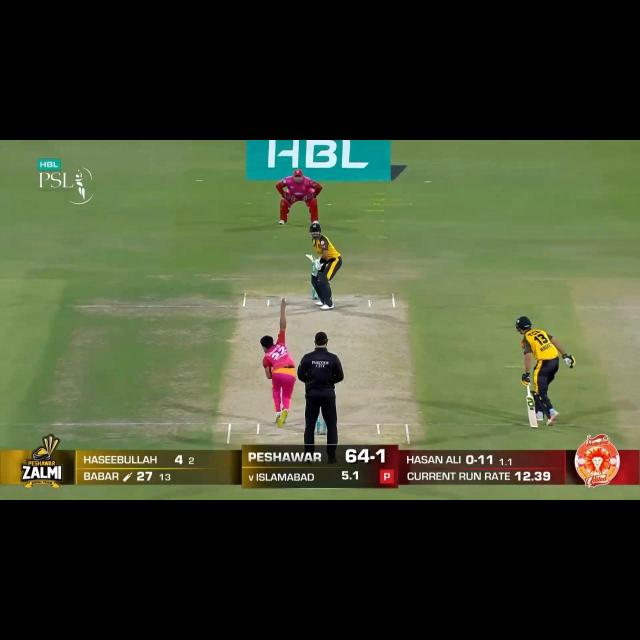bat: (525, 392, 539, 429), (302, 252, 317, 261)
toe: (528, 420, 539, 430), (304, 252, 313, 260)
